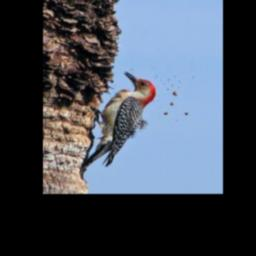Woodpecker: (79, 71, 158, 172)
